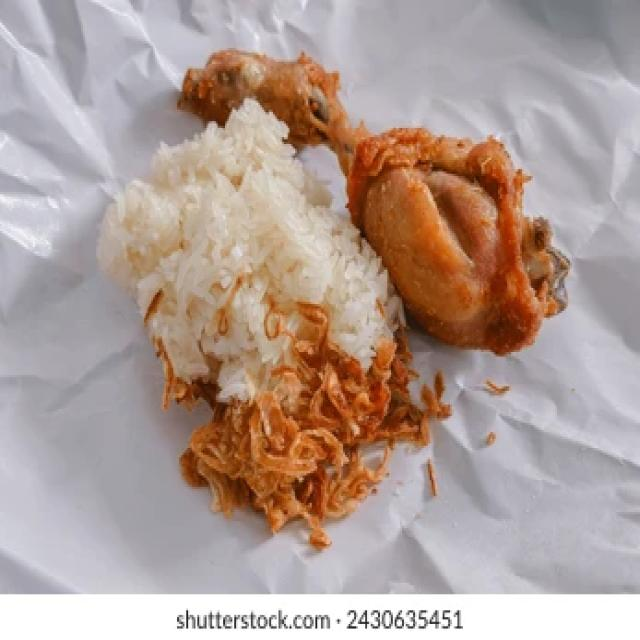carb: (99, 102, 402, 403)
meat: (182, 52, 570, 353)
vegetable: (181, 305, 430, 549)
